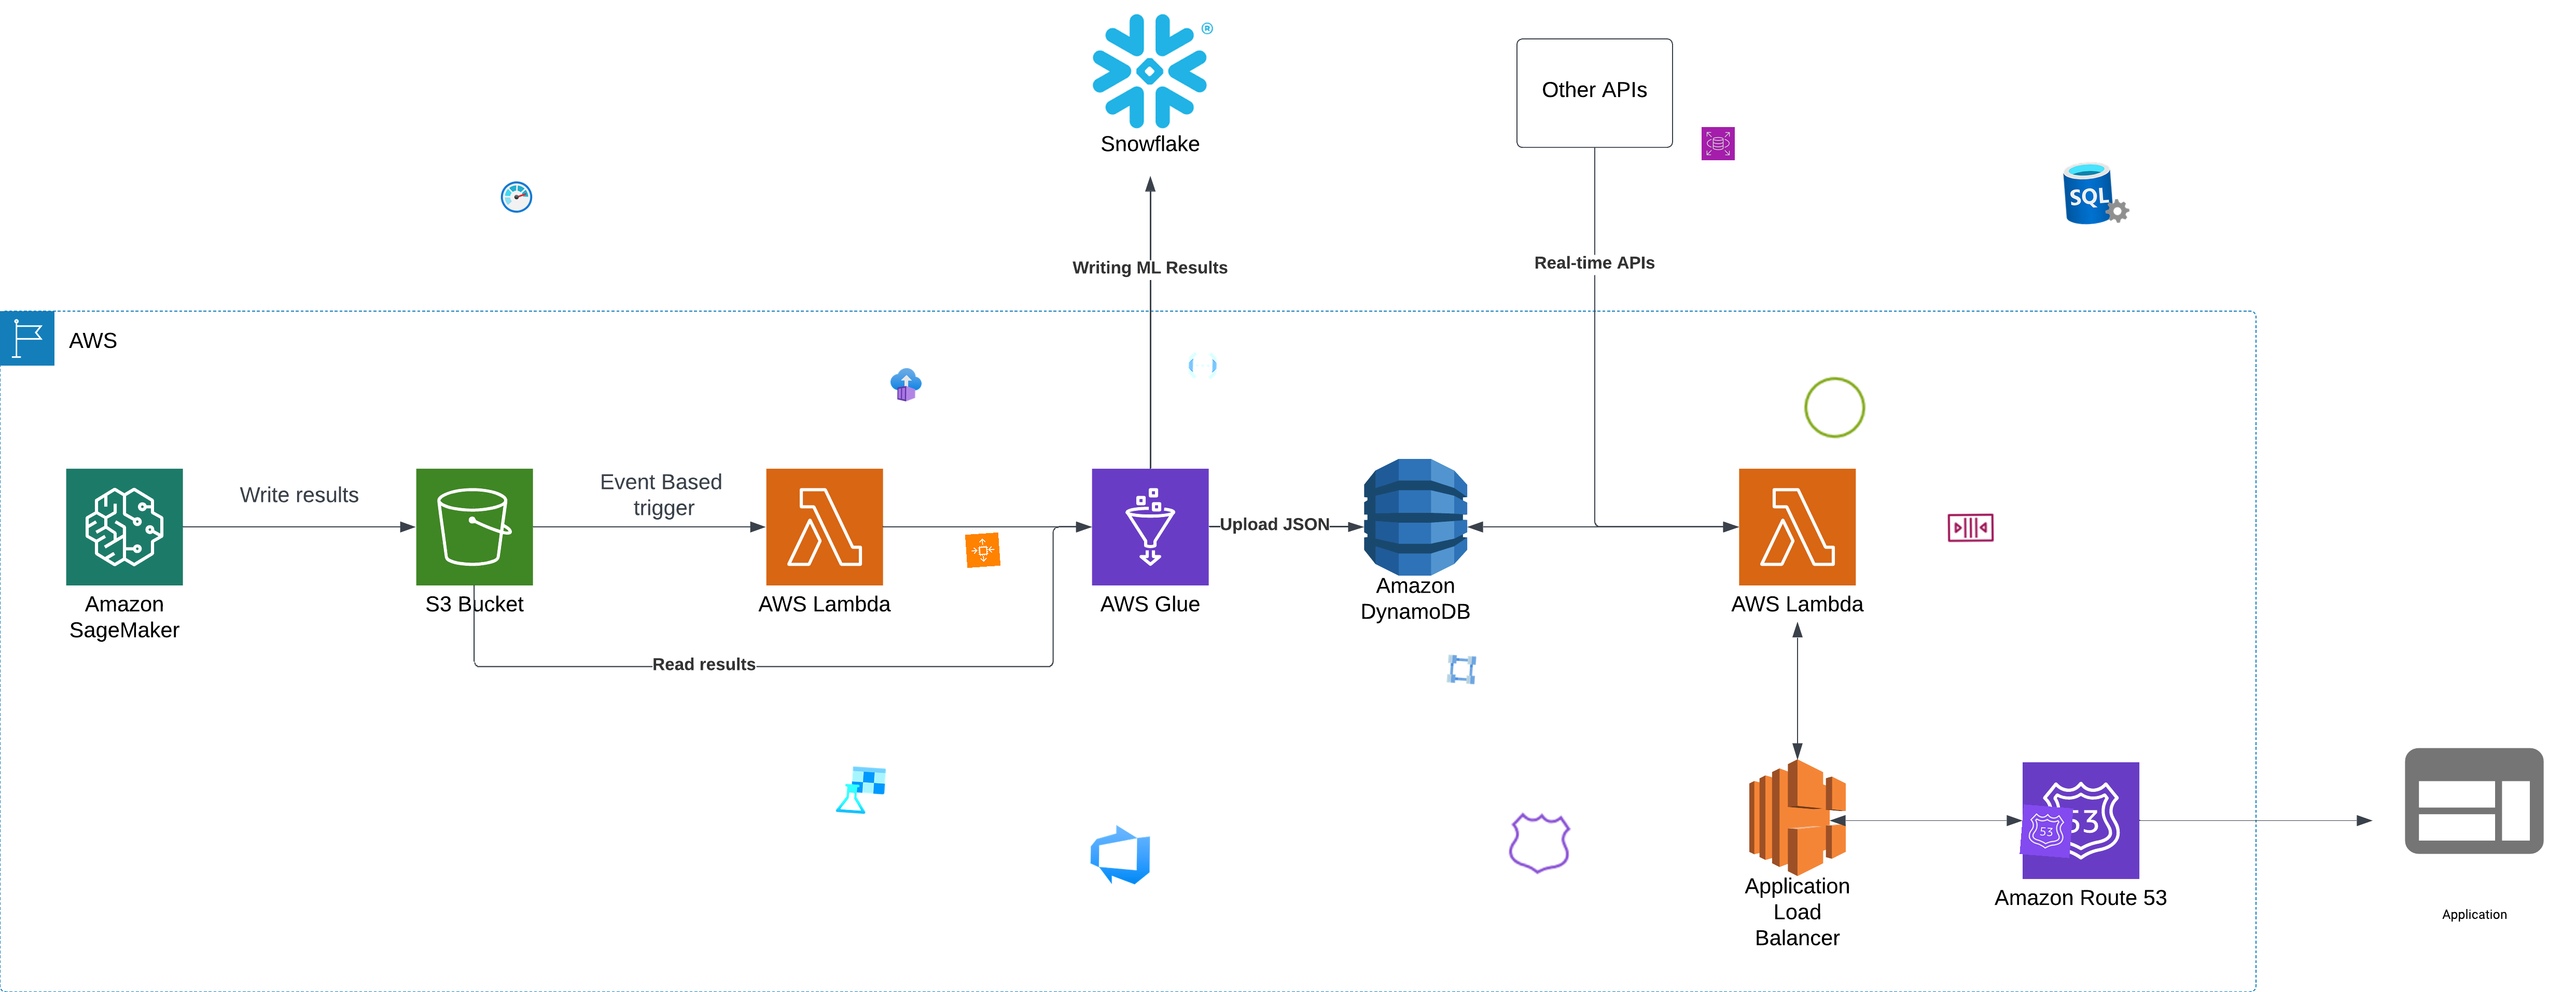aws_amazon_ec2_auto_scaling: (964, 532, 1001, 568)
aws_amazon_rds: (1700, 126, 1735, 161)
aws_amazon_route_53: (2019, 805, 2073, 859)
aws_route_53_hosted_zone: (1505, 808, 1575, 879)
aws_simple_queue_service_queue: (1945, 503, 1996, 553)
aws_simple_storage_service_object: (1799, 371, 1871, 443)
azure_container_instances: (889, 368, 923, 402)
azure_devops: (1086, 821, 1153, 889)
azure_machine_learning_studio_workspaces: (835, 764, 887, 818)
azure_monitor: (499, 179, 534, 215)
azure_sql_server: (2060, 158, 2132, 228)
gcp_cloud_functions: (1186, 348, 1219, 383)
gcp_virtual_private_cloud: (1444, 652, 1480, 688)
